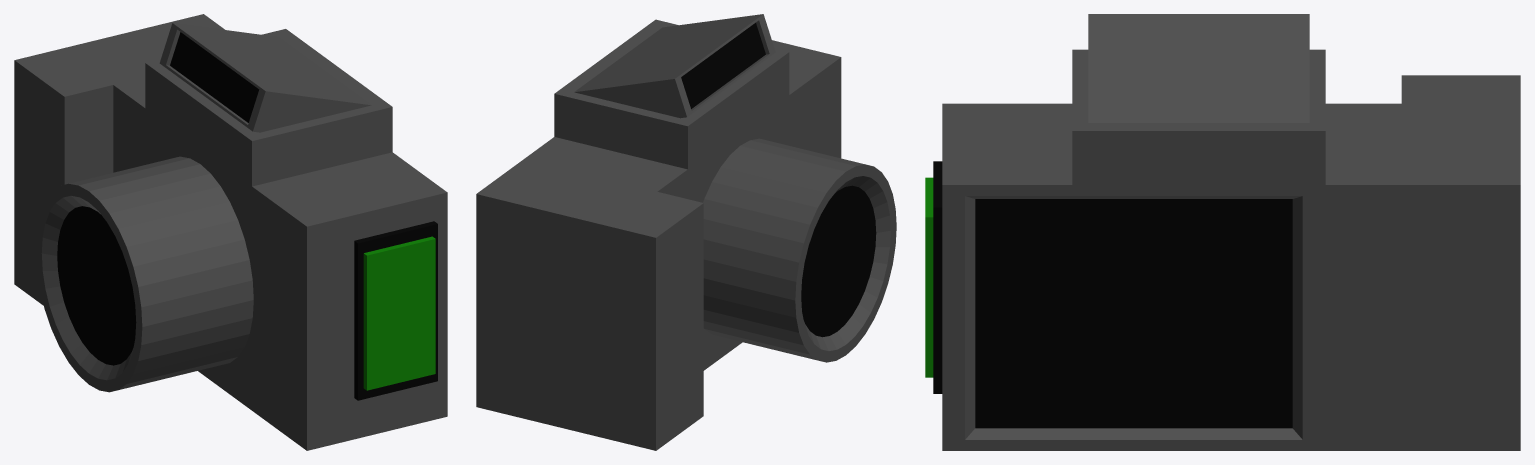
Rendered from Camera.fbx.
The picture shows the model from 3 angles, left to right: view 1: azimuth 30°, elevation 25°; view 2: azimuth 150°, elevation 25°; view 3: azimuth 270°, elevation 25°; orthographic projection. The views are drawn at different scales.
Parts seen in each view (by area): view 1: Cube, Cylinder, Cube.003, Cube.004, Cube.002, Cube.001; view 2: Cube, Cylinder, Cube.003, Cube.004; view 3: Cube, Cube.004, Cube.003, Cube.001, Cube.002.
Part boxes in pixels (<box>): Cube: <box>14,14,447,450</box>; Cylinder: <box>35,156,253,392</box>; Cube.003: <box>145,29,392,186</box>; Cube.004: <box>159,23,371,132</box>; Cube.002: <box>363,236,435,390</box>; Cube.001: <box>354,221,437,400</box>; Cube: <box>476,40,841,450</box>; Cylinder: <box>703,138,896,362</box>; Cube.003: <box>554,19,789,169</box>; Cube.004: <box>574,14,775,118</box>; Cube: <box>942,75,1520,450</box>; Cube.004: <box>1088,14,1309,122</box>; Cube.003: <box>1072,49,1325,184</box>; Cube.001: <box>933,161,942,393</box>; Cube.002: <box>925,177,933,377</box>.
Size of the model in its own units: 273 by 320 by 470.
